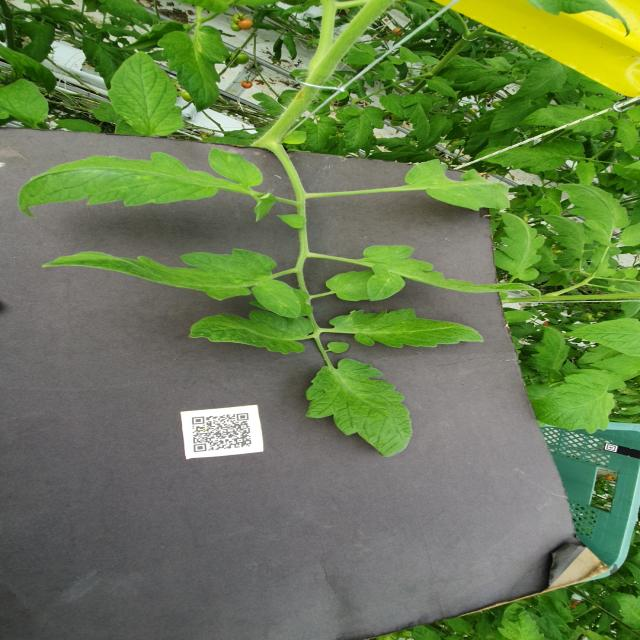Healthy Leaf: (39, 247, 304, 319), (17, 145, 264, 219), (362, 242, 548, 303), (305, 358, 414, 457), (329, 307, 485, 348), (402, 158, 517, 212), (186, 309, 315, 354), (532, 373, 618, 434), (488, 210, 545, 282), (550, 182, 632, 230), (472, 138, 581, 172), (561, 317, 640, 358), (505, 57, 569, 103), (340, 105, 386, 154), (524, 324, 570, 372), (487, 96, 543, 133), (399, 92, 434, 144), (302, 116, 337, 151), (613, 118, 640, 154), (52, 119, 102, 134), (429, 76, 459, 100), (380, 91, 404, 120), (576, 158, 596, 186)
